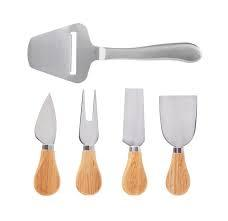Knife: (27, 22, 201, 83), (121, 87, 147, 195), (75, 88, 101, 194), (33, 92, 59, 195)
